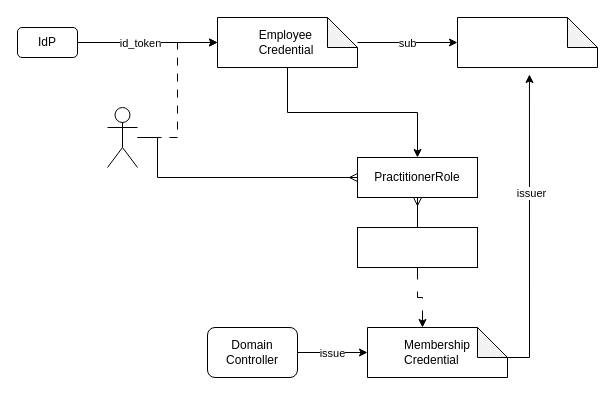
Some shapes in this 615 by 395 pixel diagram are drawn without their labels. The shapes that lost their labels are listed below. From the top down, each one's box as (x1, y1, x2, y2) in pixels, then its label:
(456, 16, 598, 68): Role credential
(106, 106, 138, 168): Practitioner
(356, 226, 478, 268): Organization
